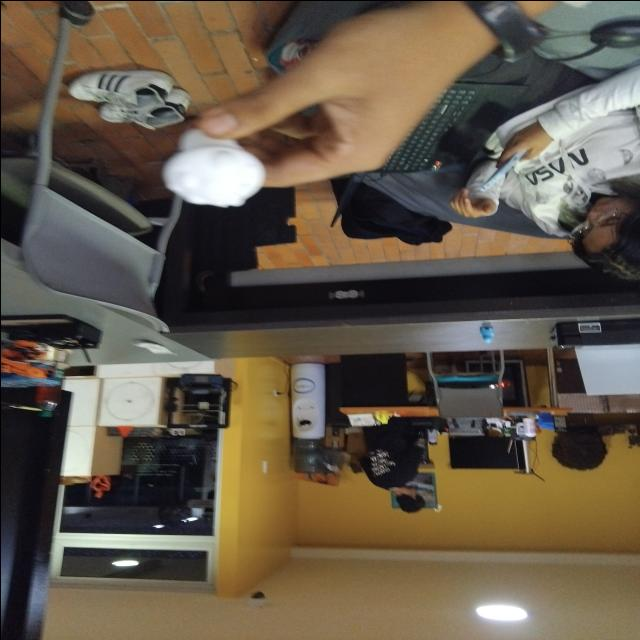Hongo: (154, 126, 279, 206)
